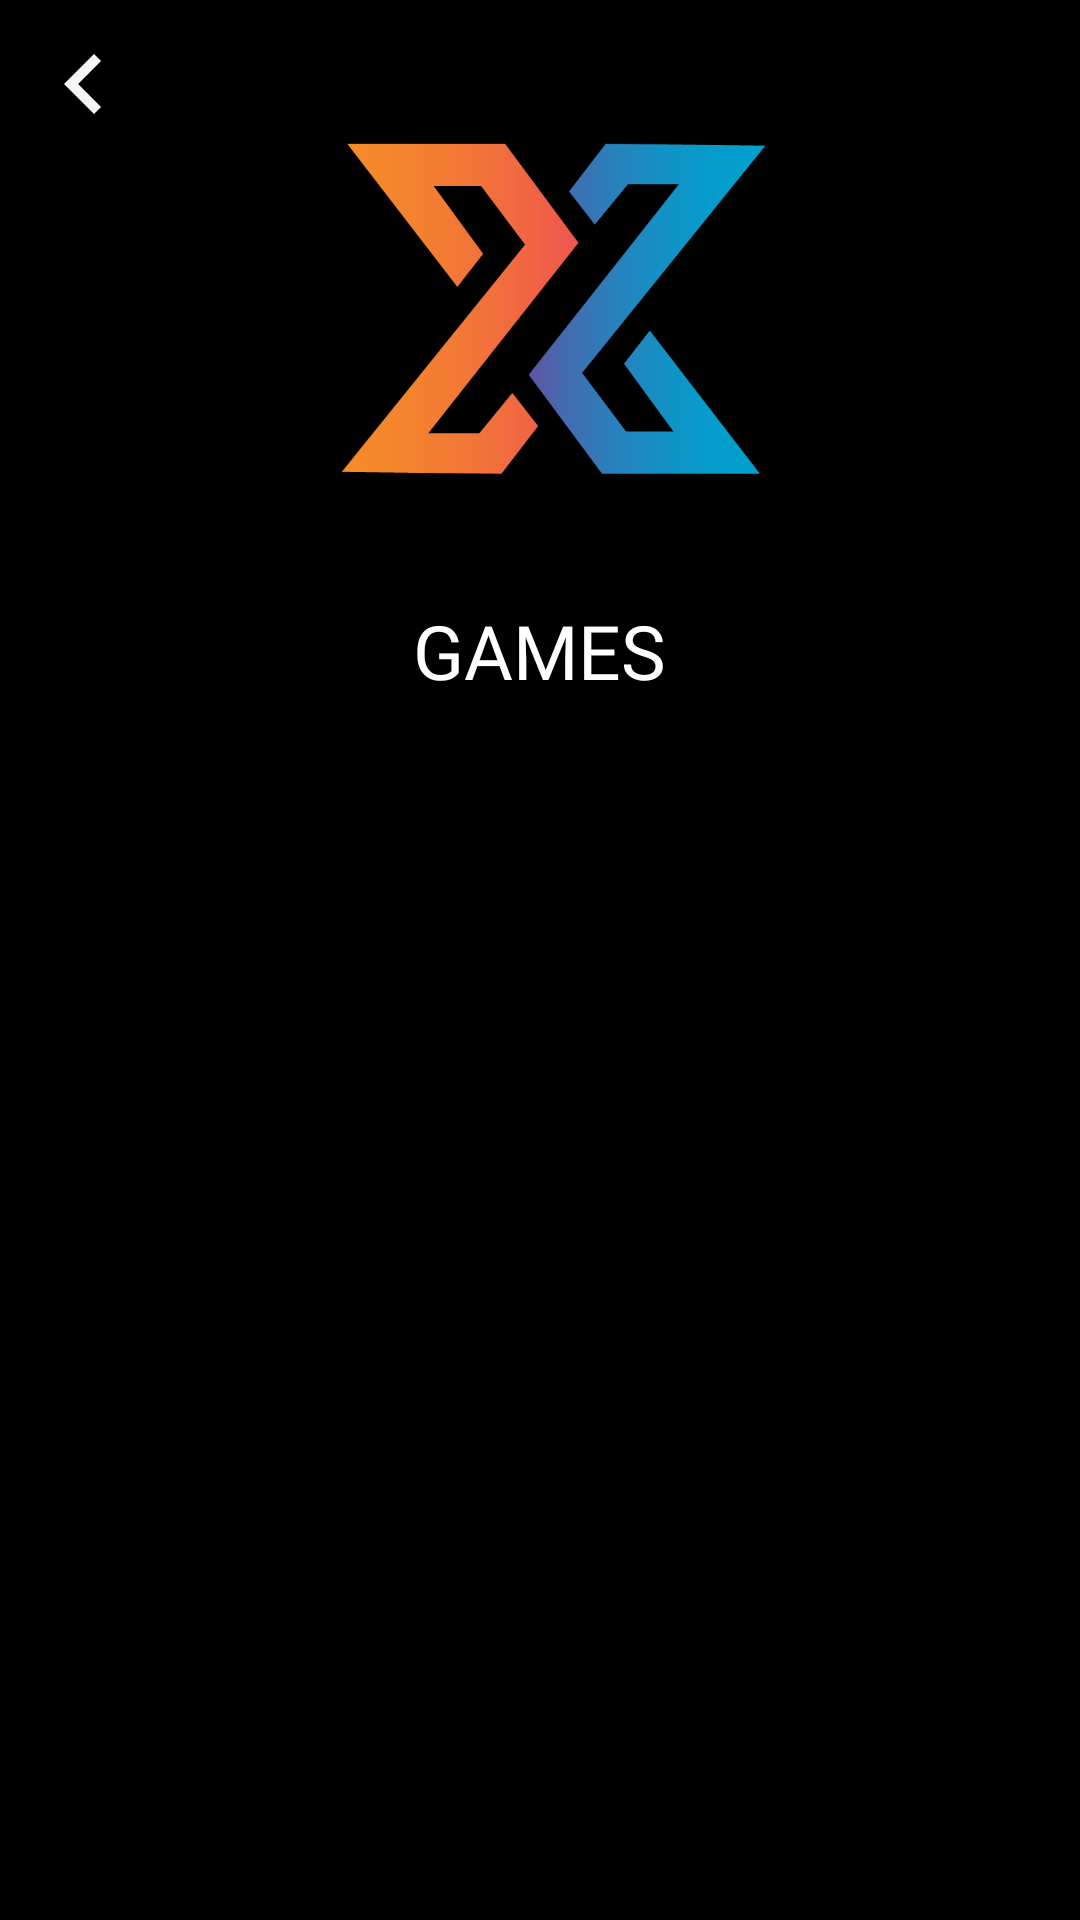

Icon click points for this 1080*1920 phone screenshot, format (x=x, y=y):
back: (x=82, y=84)
